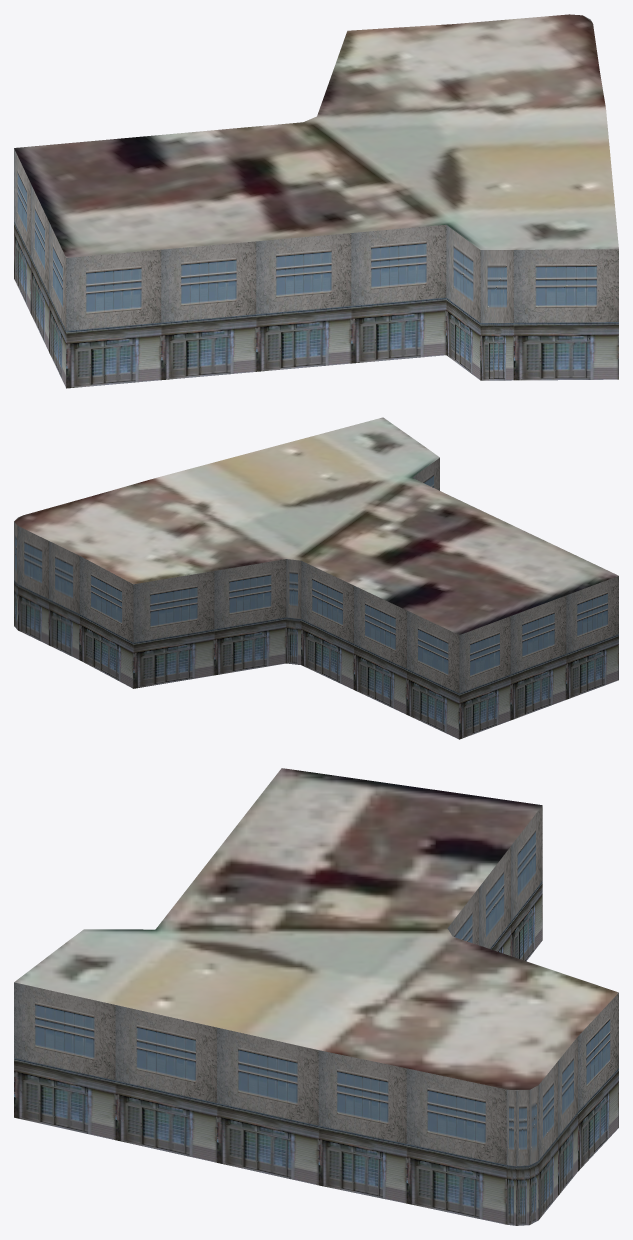
3 renders of one model, top to bottom at view 1: azimuth 30°, elevation 25°; view 2: azimuth 150°, elevation 25°; view 3: azimuth 270°, elevation 25°, orthographic. The views are drawn at different scales.
Visible parts, largest first — view 1: SketchUp (×15); view 2: SketchUp (×20); view 3: SketchUp (×18).
Part boxes in pixels (<box>): SketchUp (×15): <box>14,14,618,388</box>; SketchUp (×20): <box>14,417,618,739</box>; SketchUp (×18): <box>14,768,618,1225</box>.
Bounding box in the file's own units: 38.2 × 30.27 × 7.47.
Materials: 3 (3 with a texture image).
